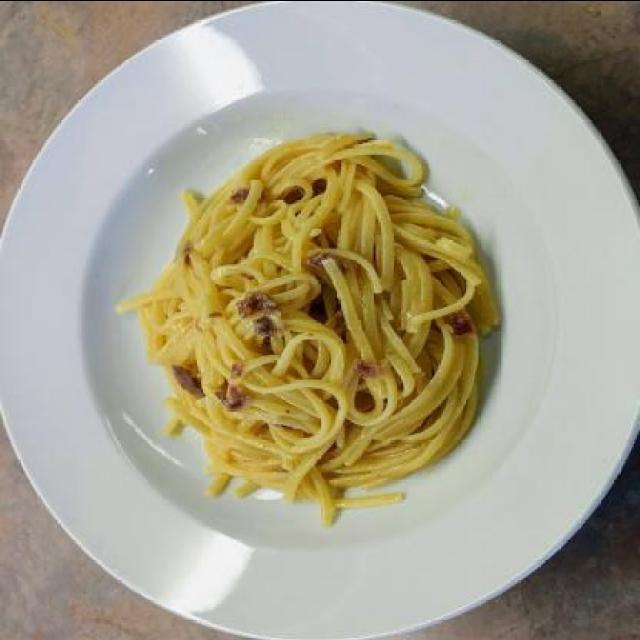Oil pasta: (90, 91, 528, 540)
